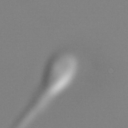normal: (13, 89, 55, 126)
